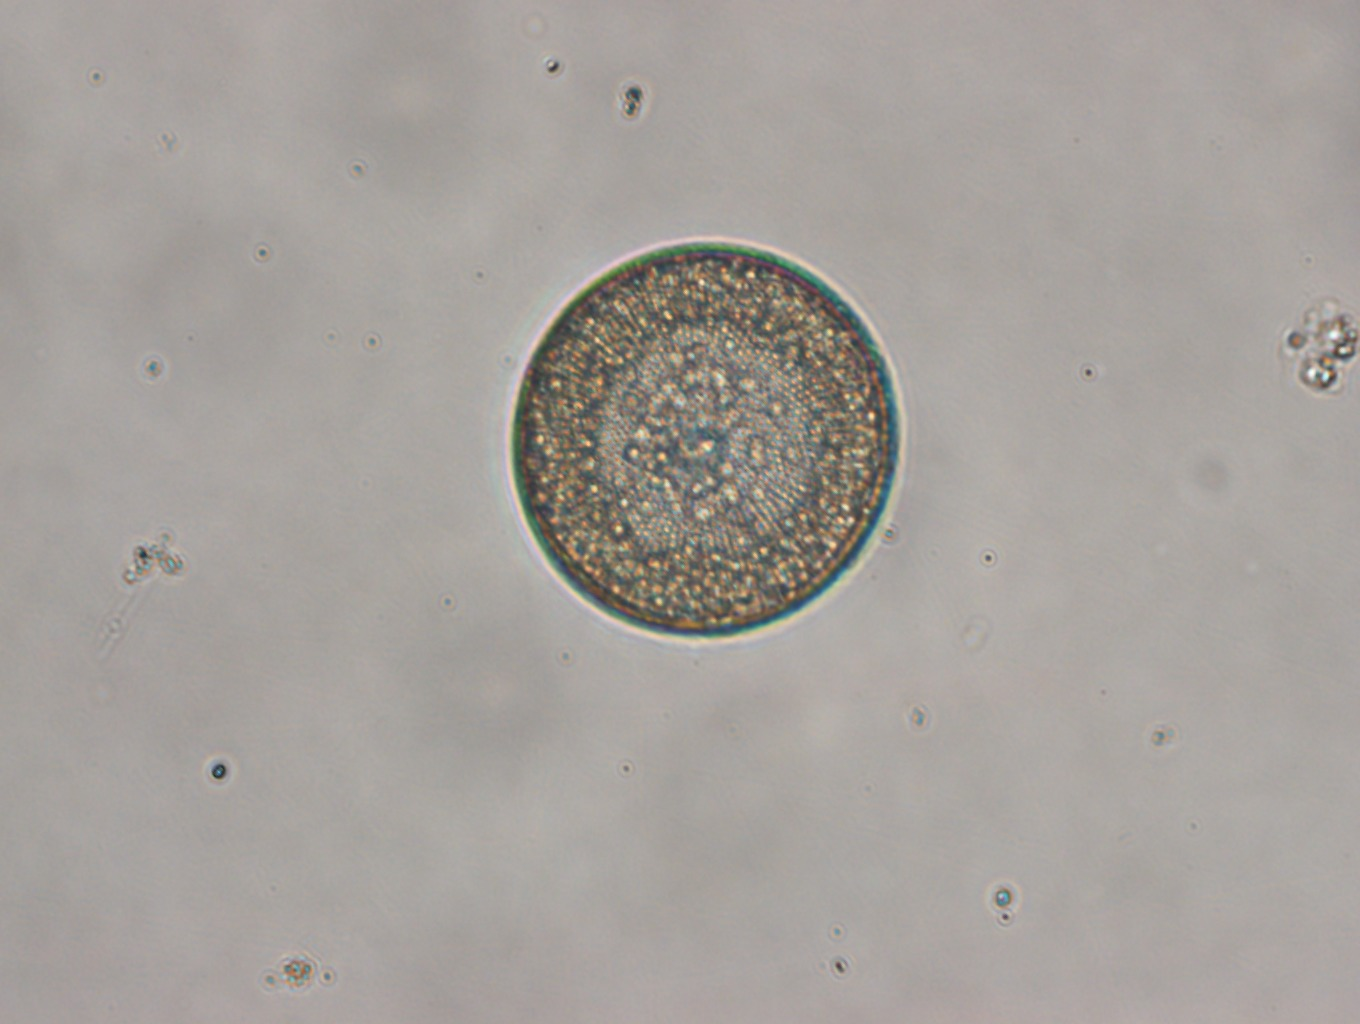coscinodiscus: (507, 237, 906, 643)
